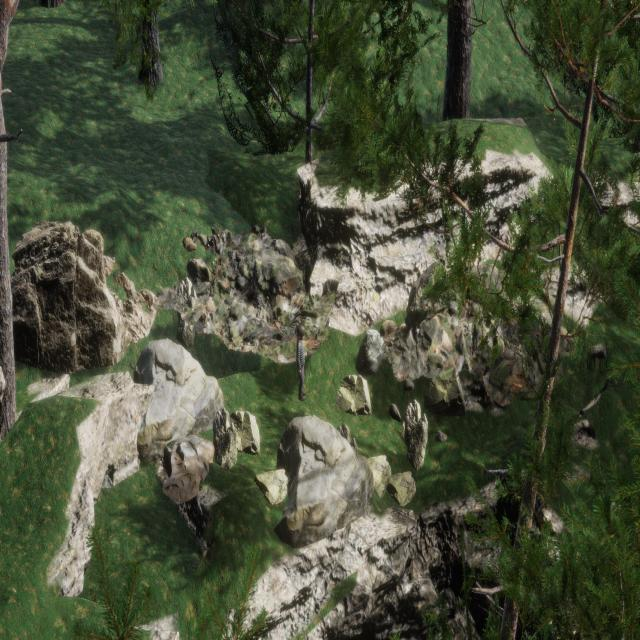Human: (291, 322, 314, 409)
